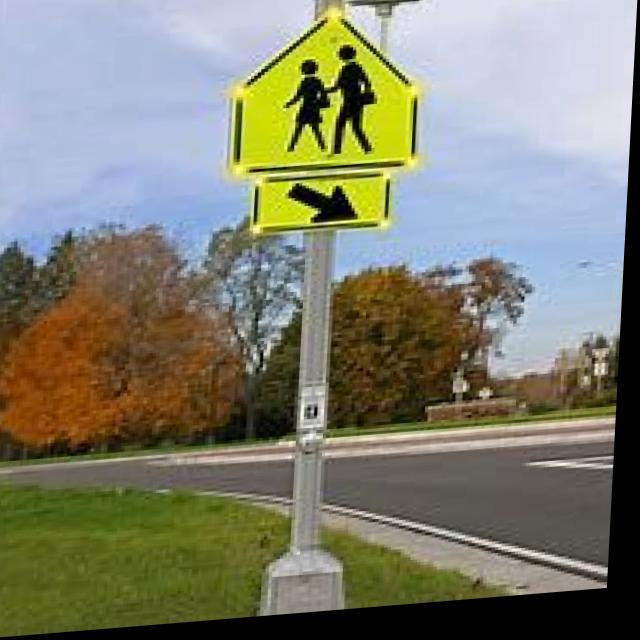SCHOOL_AHEAD: (229, 6, 425, 184)
